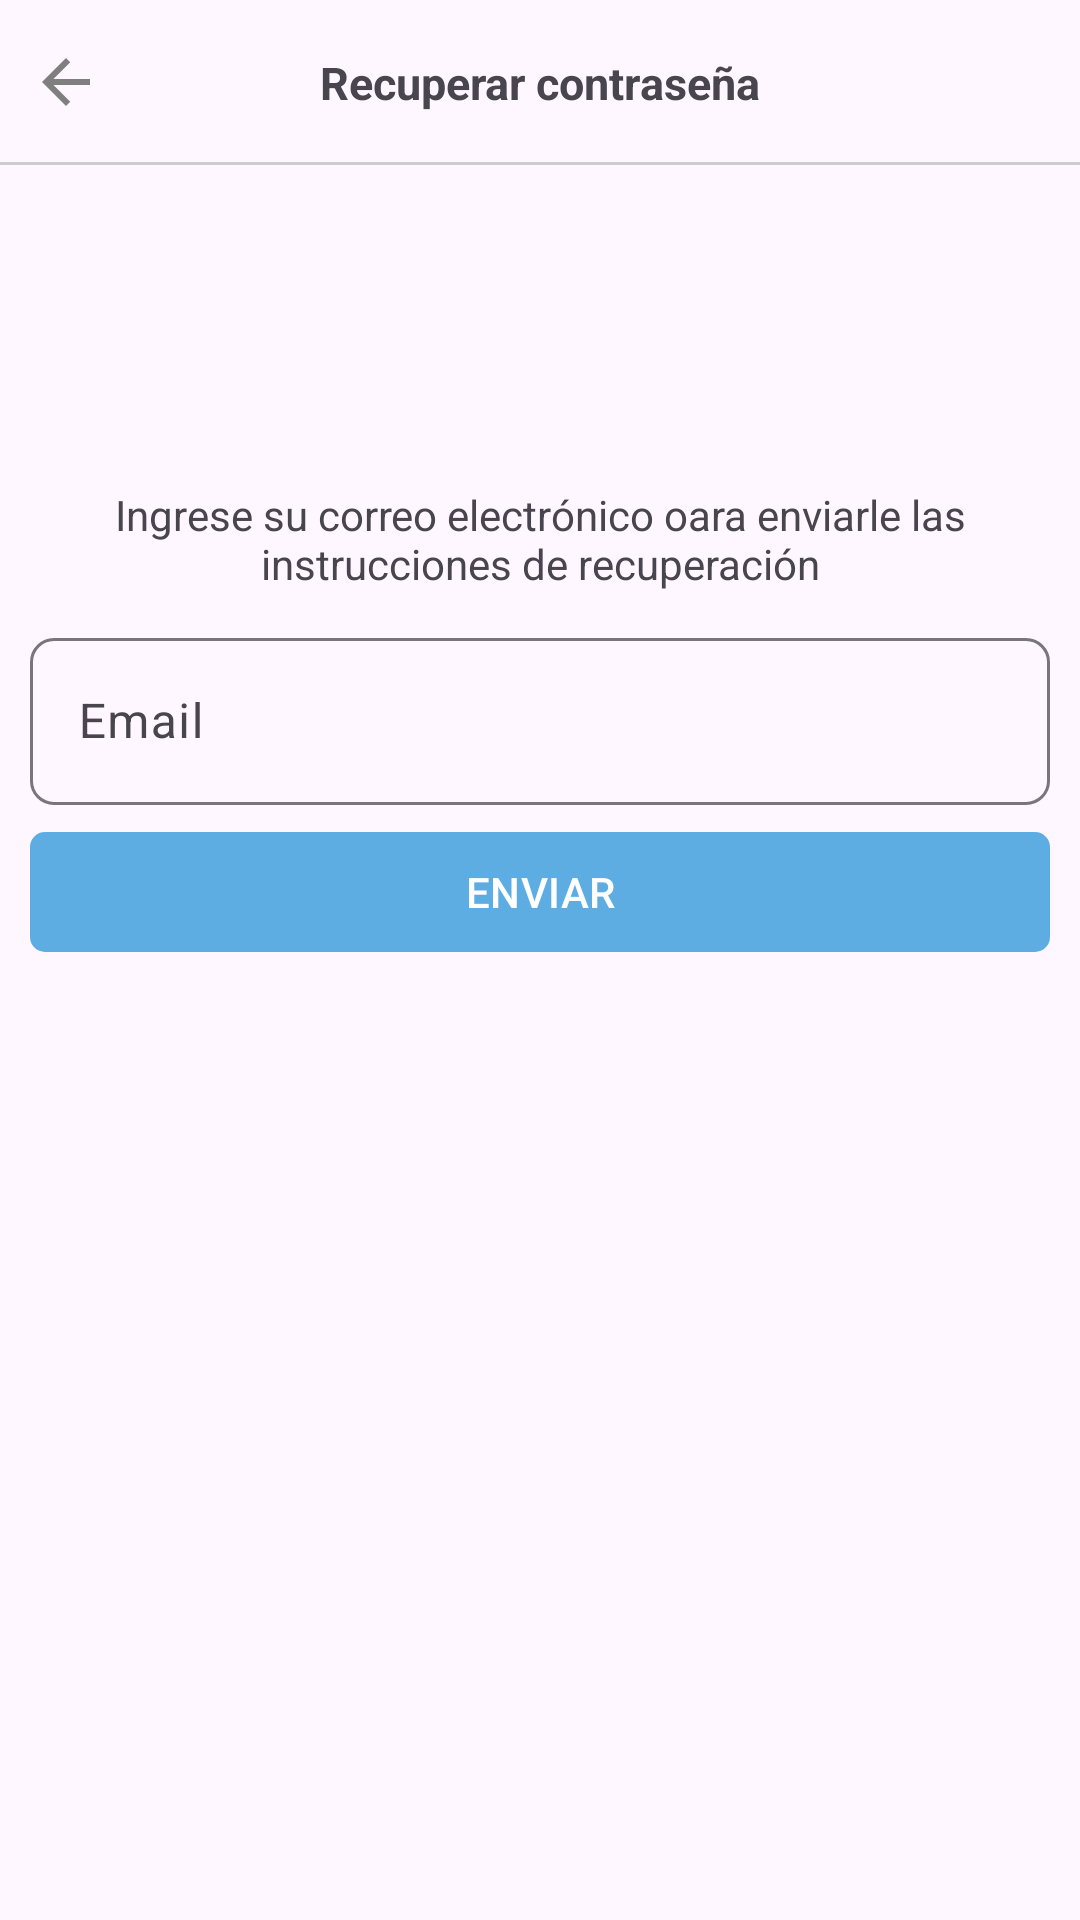

Icon click points for this 1080×1920 phone screenshot, format [x,y]:
regresar: [66,82]
